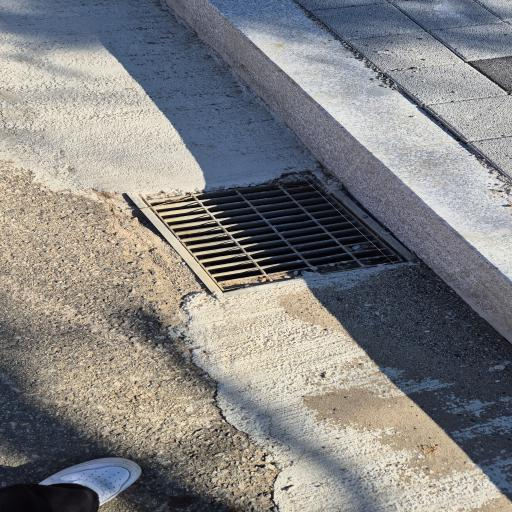drain: (140, 177, 409, 291)
